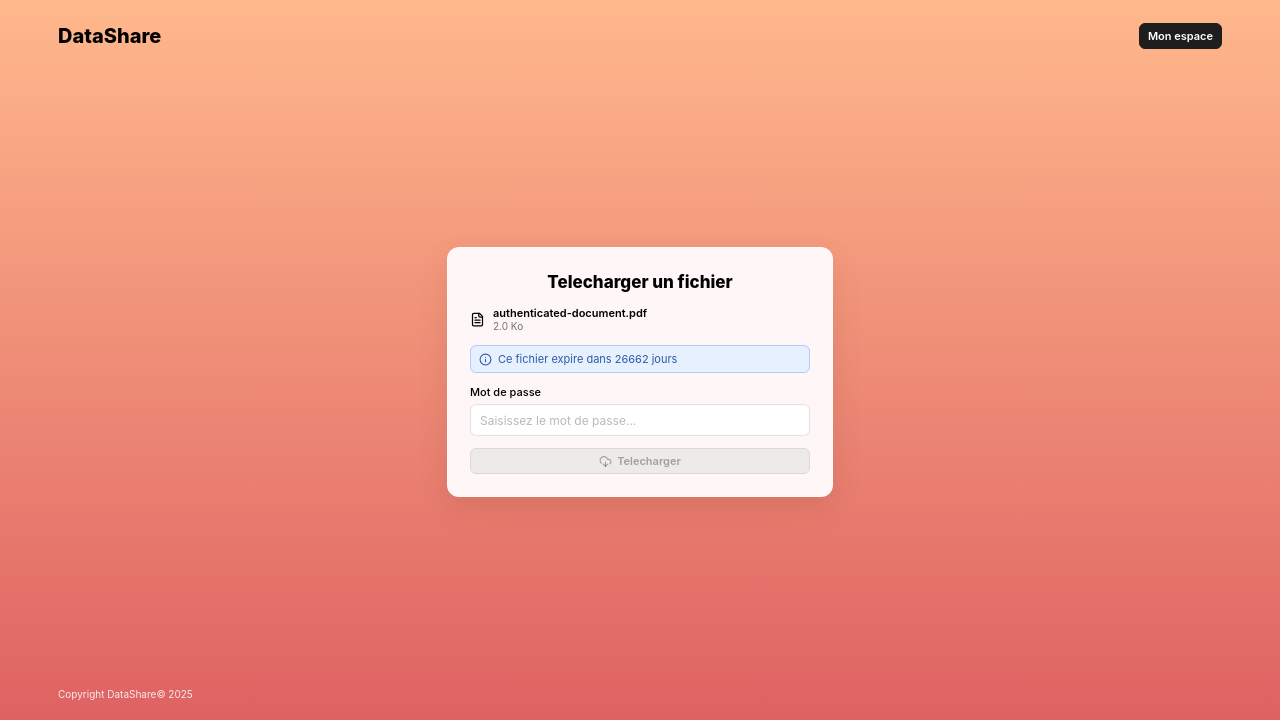
Test case: public share link download › downloads a file while authenticated
Check: the text "authenticated-document.pdf" is shown, box [493,306,647,320]
Check: the button "Telecharger" is disabled, box [470,448,810,474]
Type "secret123" into the password field named "password".
click(640, 420); type("secret123")  # box [470,404,810,436]
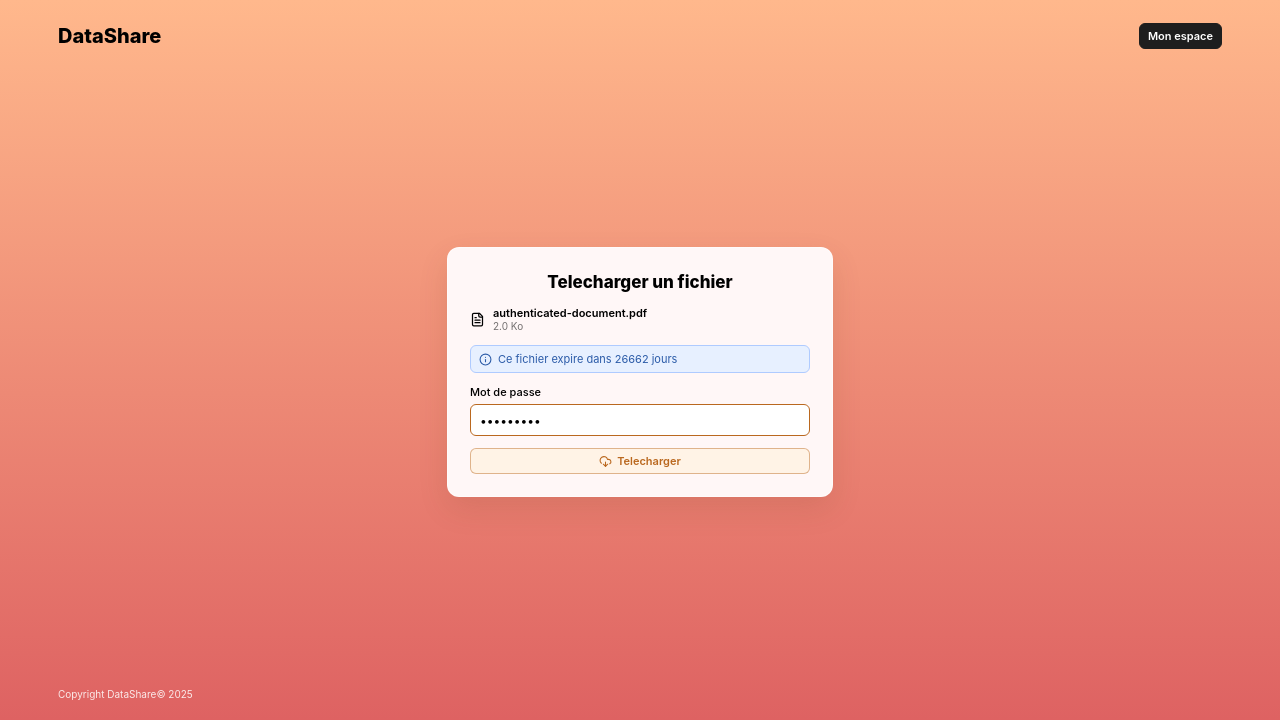
Check: the text "telecharger" is enabled
Click the button "Telecharger".
click(640, 461)  # box [470,448,810,474]
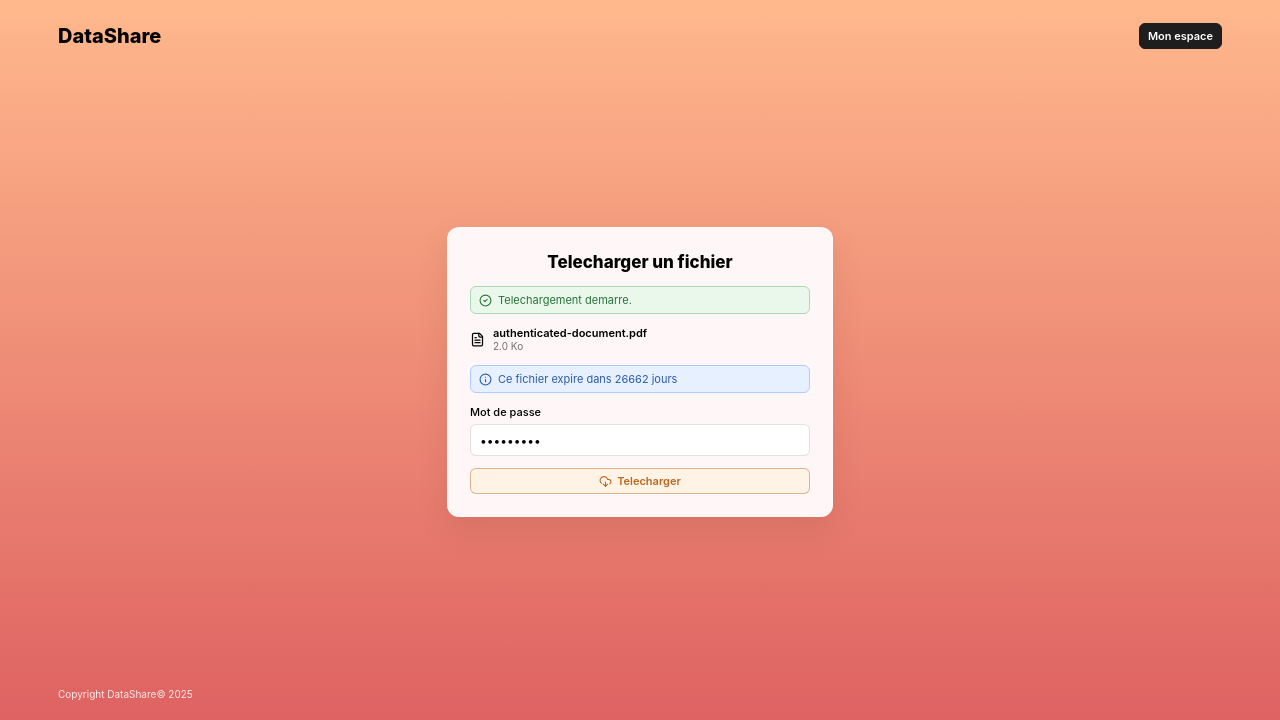
Check: the text "Telechargement demarre." is shown, box [498,293,632,307]
